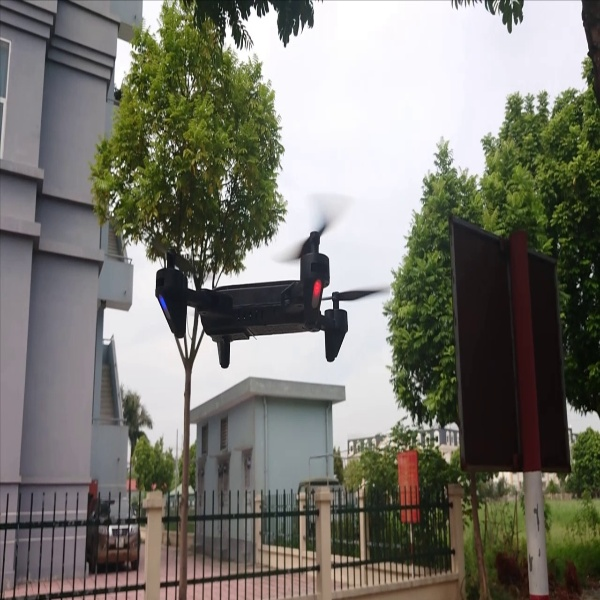drone: (139, 206, 391, 373)
